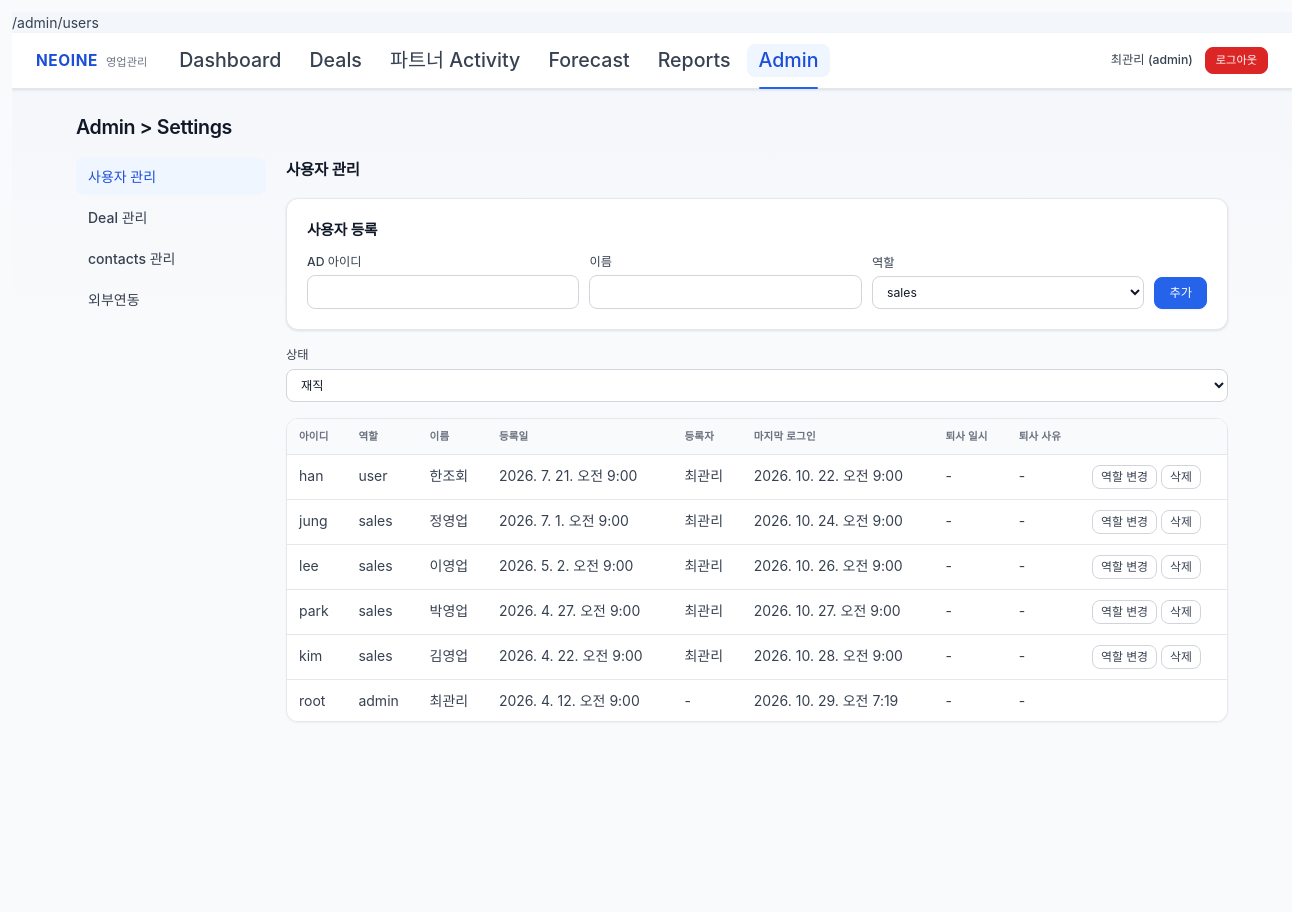
it: 사용자 등록 (T-ADMIN-02) › registers an AD id with the chosen role and refreshes the list
This screenshot has width=1292, height=912.
Expected: the cell "kim" is shown, [287,635,346,680]
Type "newbie" into the field labelled "AD 아이디".
click(443, 292); type("newbie")  # box [307,275,580,309]
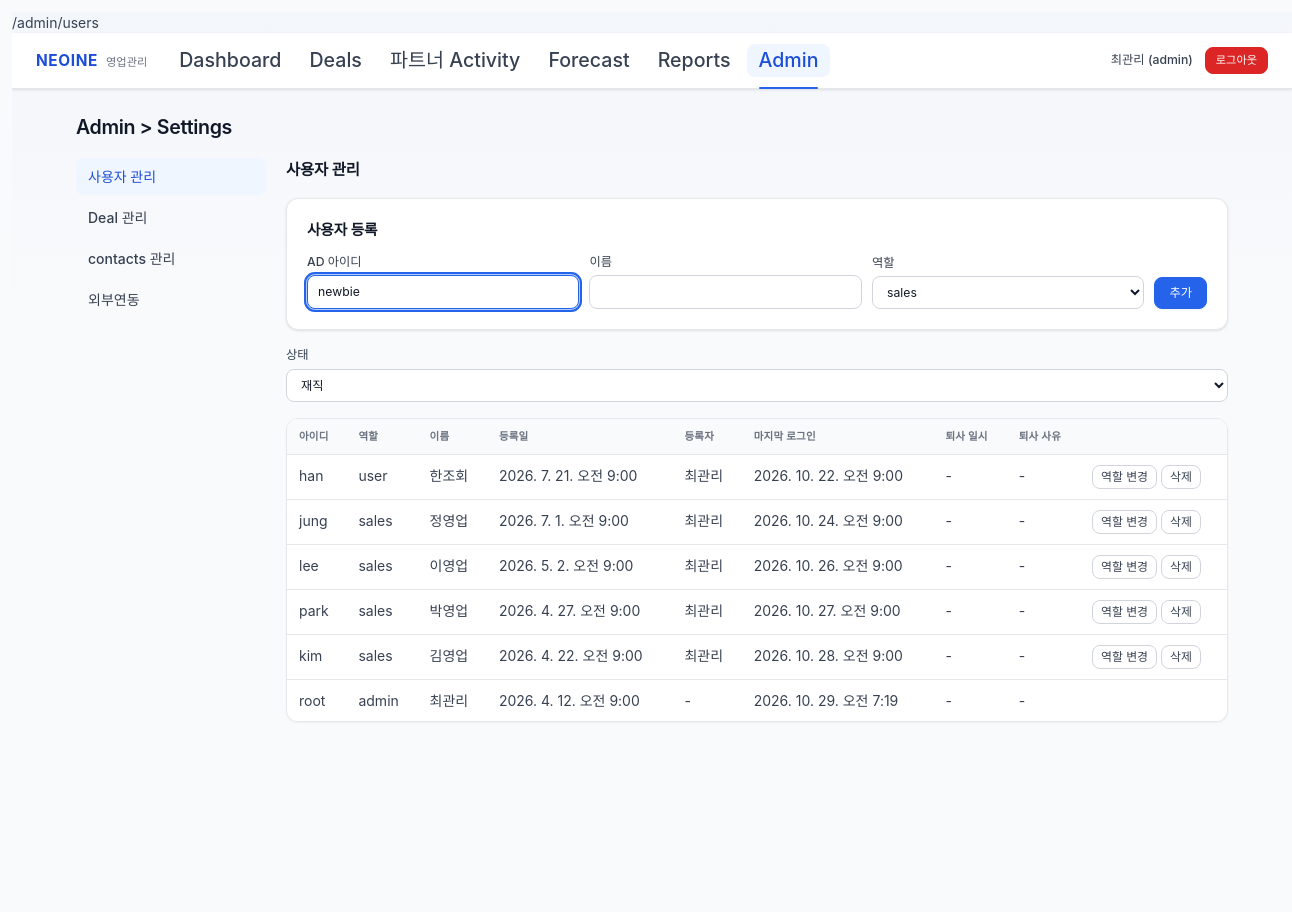
Type "신입영업" into the field labelled "이름".
click(726, 292); type("신입영업")  # box [590,275,862,309]
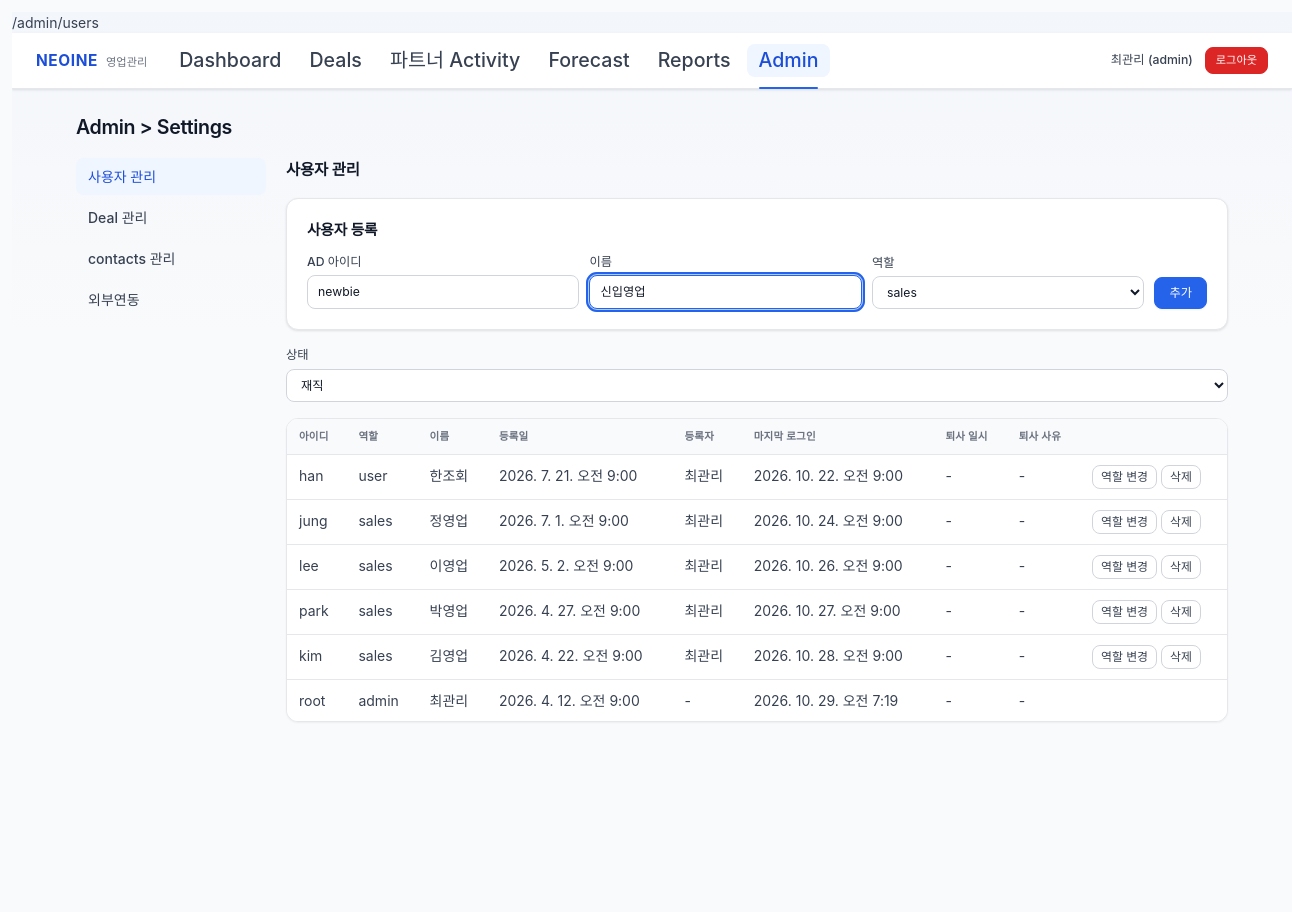
Select "user" in the dropdown labelled "역할" at (1008, 293), box [872,276,1144,309]
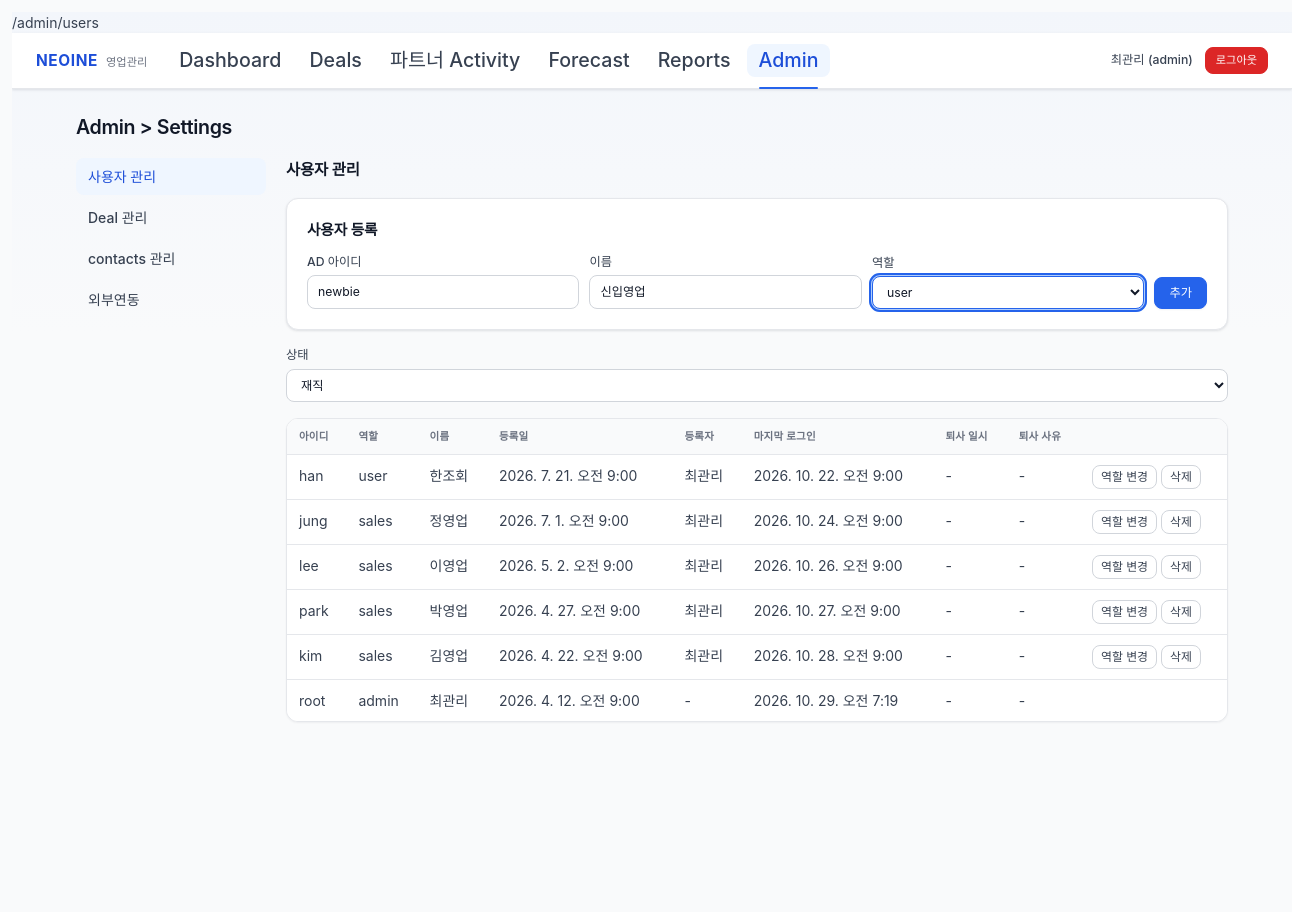
Click the button "추가".
click(1181, 293)  # box [1154,277,1207,309]
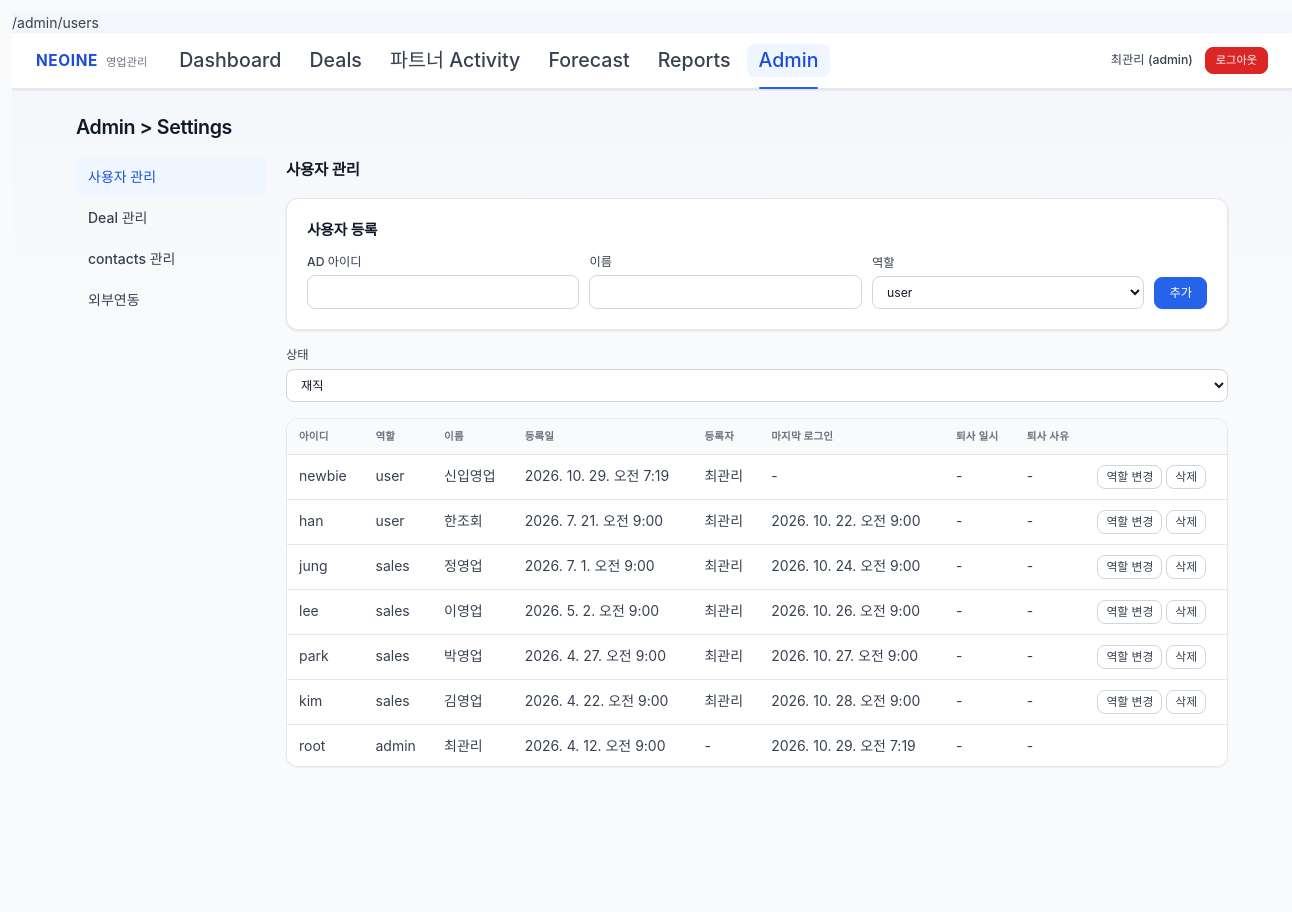
Expected: the text "user" next to "newbie" is shown, [376,467,405,484]
Expected: the text "신입영업" is shown, [432,455,513,500]
Expected: the text "최관리" in the row of "newbie" is shown, [704,467,743,484]
